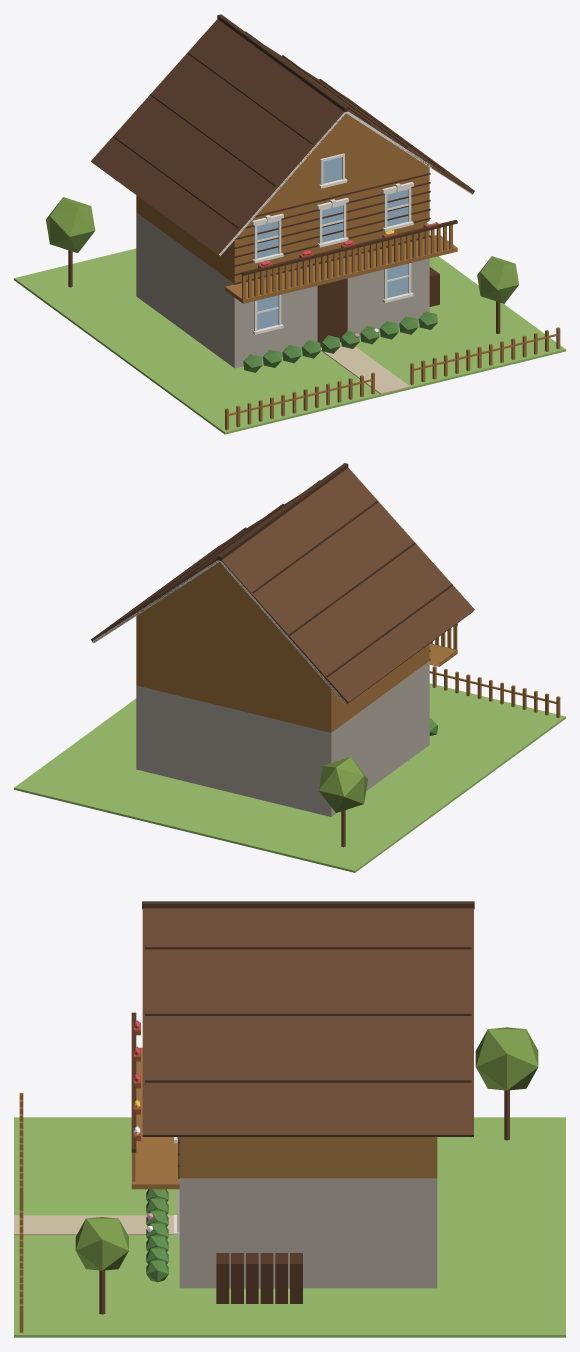
Rendered from Konut_sale_3_Hafif.fbx.
The picture shows the model from 3 angles, top to bottom: view 1: azimuth 30°, elevation 25°; view 2: azimuth 150°, elevation 25°; view 3: azimuth 270°, elevation 25°; orthographic projection. The views are drawn at different scales.
Visible parts, largest first — view 1: Konut_sale_3_Hafif; view 2: Konut_sale_3_Hafif; view 3: Konut_sale_3_Hafif.
Boxes of the visible parts, x1,y1,x2,y2 form: Konut_sale_3_Hafif: [14, 14, 565, 434]; Konut_sale_3_Hafif: [14, 463, 565, 872]; Konut_sale_3_Hafif: [14, 901, 565, 1337].
Size of the model in its own units: 14 by 9.78 by 15.
